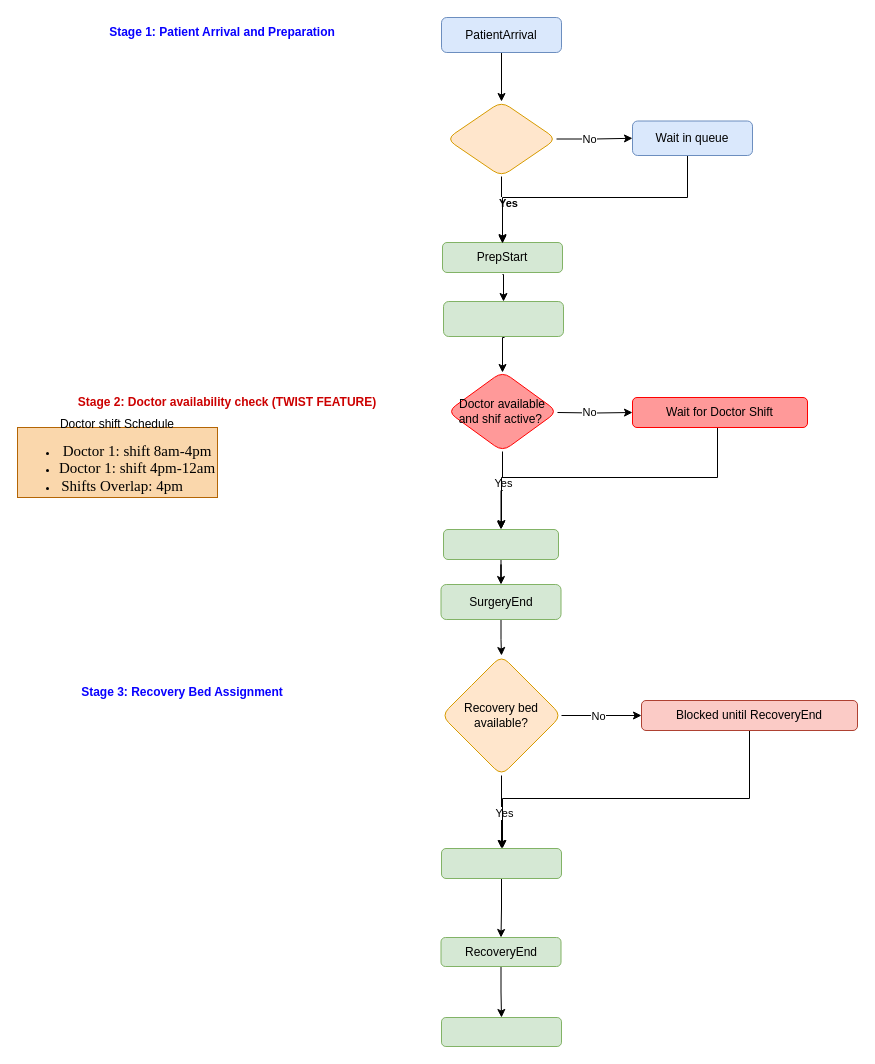
Some shapes in this 875 by 1064 pixel diagram are drawn without their labels. The shapes that lost their labels are listed below. From the top down, each one's centre as x and y in pixels, then its label:
At pixel 501 138: "Prep place available?".
At pixel 503 318: "PrepEnd".
At pixel 500 544: "SurgeryStart".
At pixel 501 863: "RecoveryStart".
At pixel 501 1031: "Exit".
